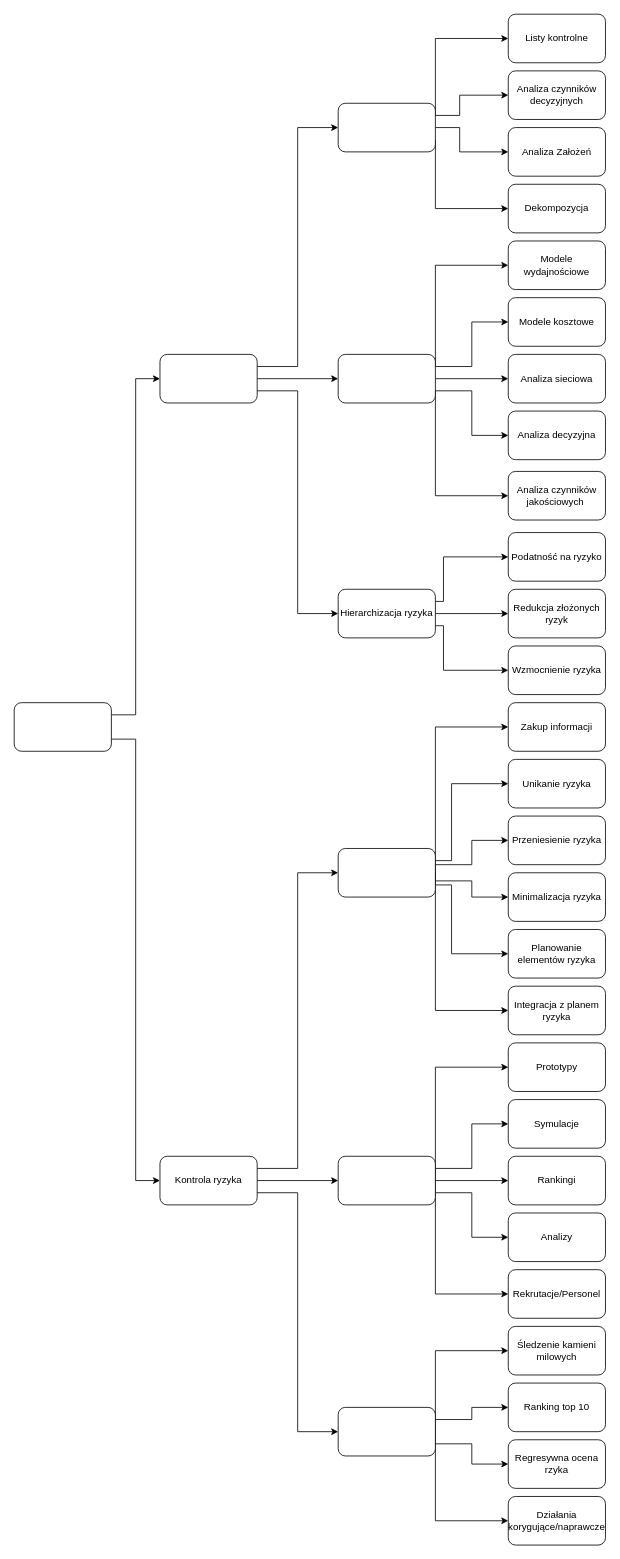
Some shapes in this 620 by 1559 pixel diagram are drawn without their labels. Here are the shapes that lost their labels. From the top down, the centre of each, then its label:
At pixel 386 127: "Identyfikacja Ryzyka".
At pixel 208 378: "Ocena Ryzyka".
At pixel 386 378: "Analiza ryzyka".
At pixel 62 726: "Zarządzanie ryzykiem".
At pixel 386 872: "Planowanie zarządzania ryzkiem".
At pixel 386 1180: "Reakcja na ryzyko".
At pixel 386 1431: "Monitorowanie Ryzyka".
